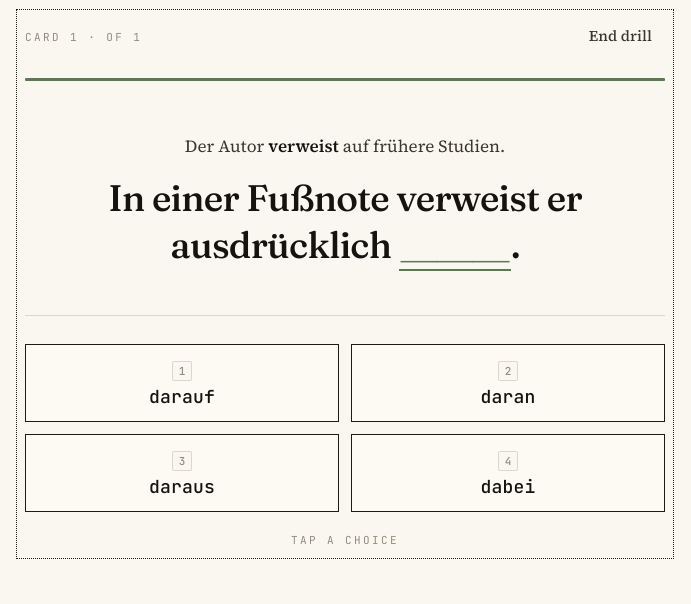
Test: SubstitutionRunner — pick mode smoke tests › reveals feedback after clicking a wrong option (deterministic via seeded shuffle)
Click the button with class "choice" showing "2 daran".
click(508, 383)  # box [351,344,665,422]
(page scrolled)
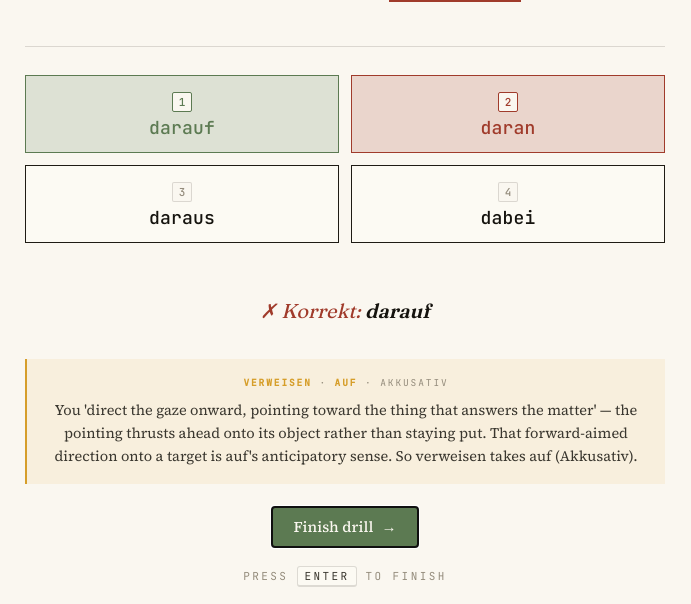
Result: the element with class "drill-feedback" is shown at [25,267,665,548]
Result: the element with class "wrong" showing "✗ Korrekt: darauf" is shown at [260,295,430,327]
